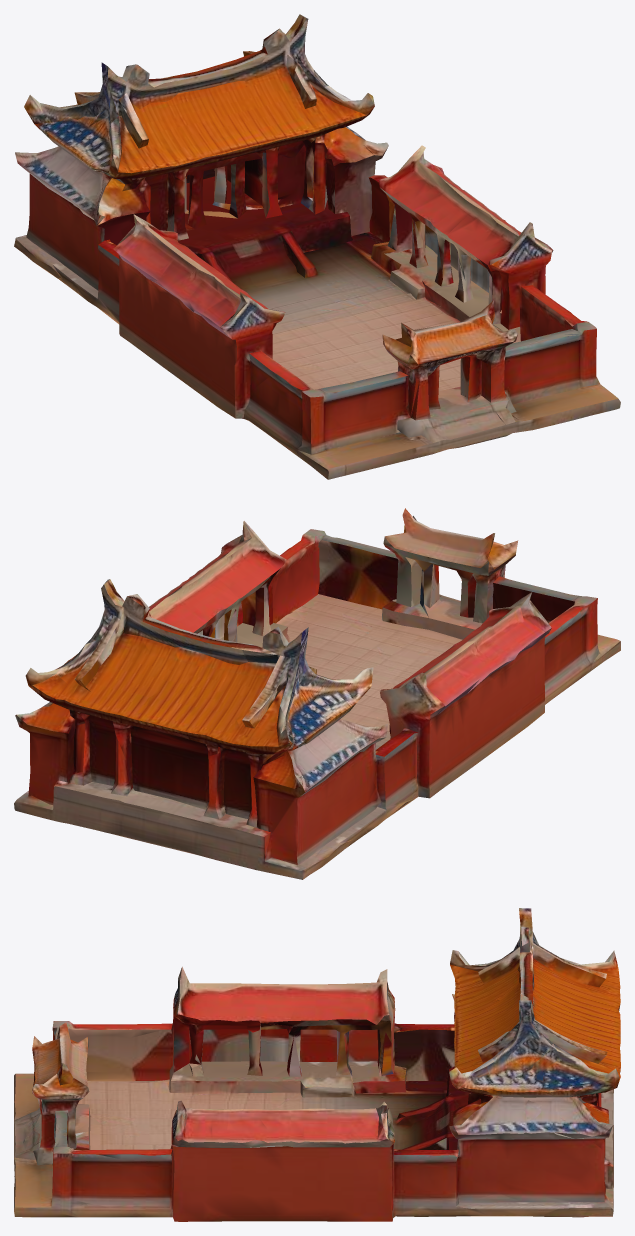
File: tainan-confucian-temple.glb
The picture shows the model from 3 angles, top to bottom: view 1: azimuth 30°, elevation 25°; view 2: azimuth 150°, elevation 25°; view 3: azimuth 270°, elevation 25°; orthographic projection. The views are drawn at different scales.
Parts seen in each view (by area): view 1: logan-textured.obj; view 2: logan-textured.obj; view 3: logan-textured.obj.
Boxes of the visible parts, x1=… form: logan-textured.obj: x1=14, y1=14, x2=620, y2=479; logan-textured.obj: x1=14, y1=508, x2=620, y2=879; logan-textured.obj: x1=14, y1=908, x2=620, y2=1221.
Bounding box in the file's own units: 0.5963 × 0.357 × 1.
1 material, 1 textured.
